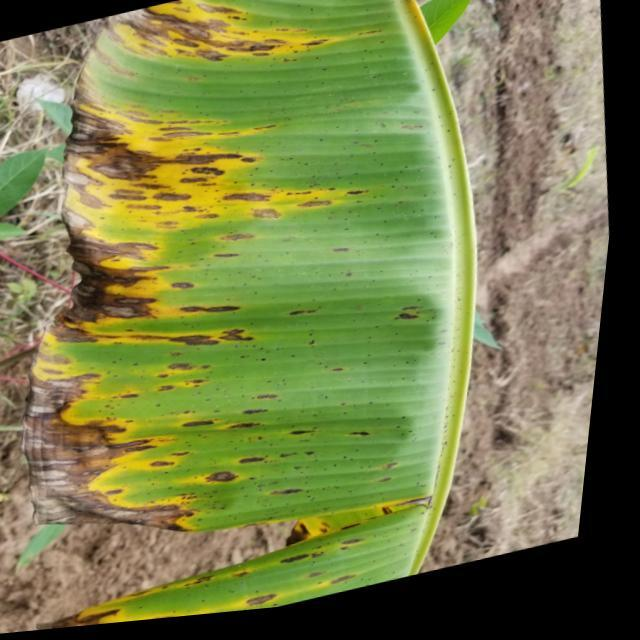Early_rust: (45, 5, 483, 636)
